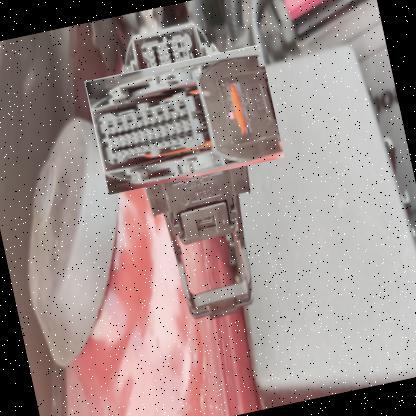Connector: (96, 30, 273, 207)
